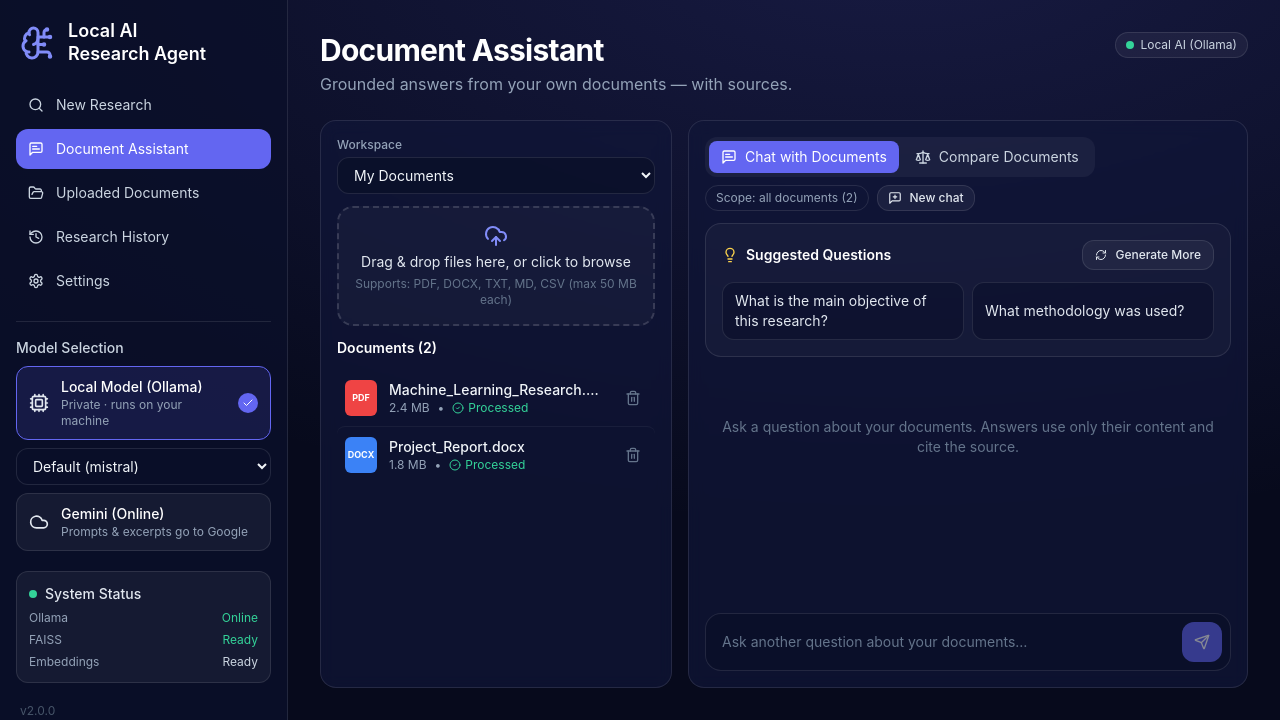
Document Assistant › selecting a document scopes questions to it; typing a question and sending works
Later steps or results of the test are not shown.
Click the text "Project_Report.docx" at {"x": 457, "y": 446}, box [389,438,525,455]
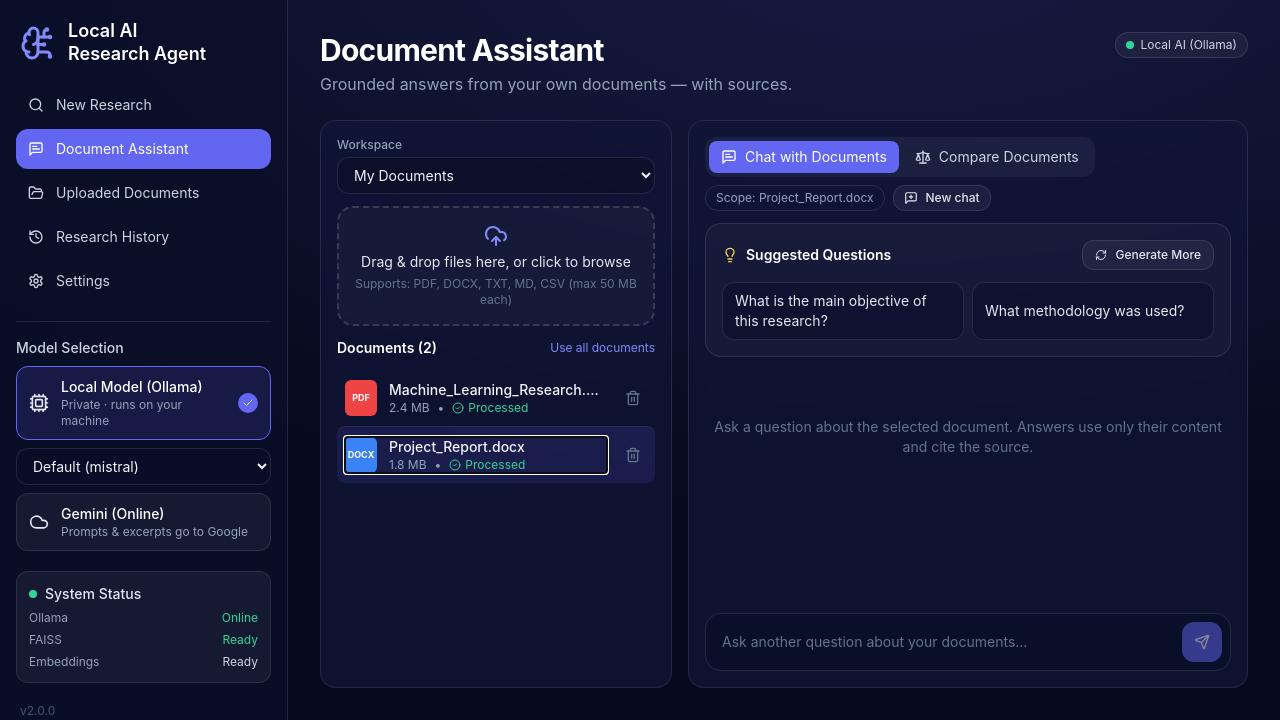
expect the text "Scope: Project_Report.docx" is shown: met, box [705,185,884,211]
